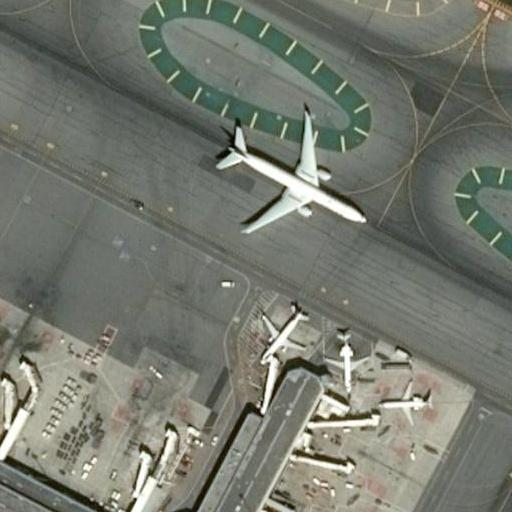Aircraft: (209, 108, 368, 238), (256, 303, 310, 362), (324, 328, 370, 387), (379, 381, 430, 424)
